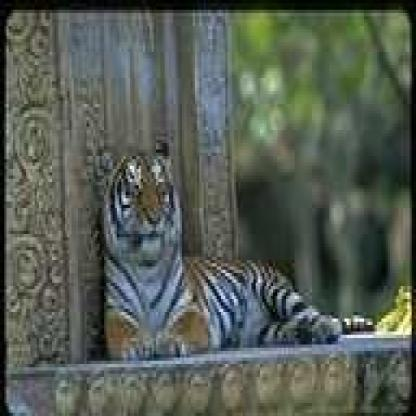Tiger: (61, 120, 361, 355)
